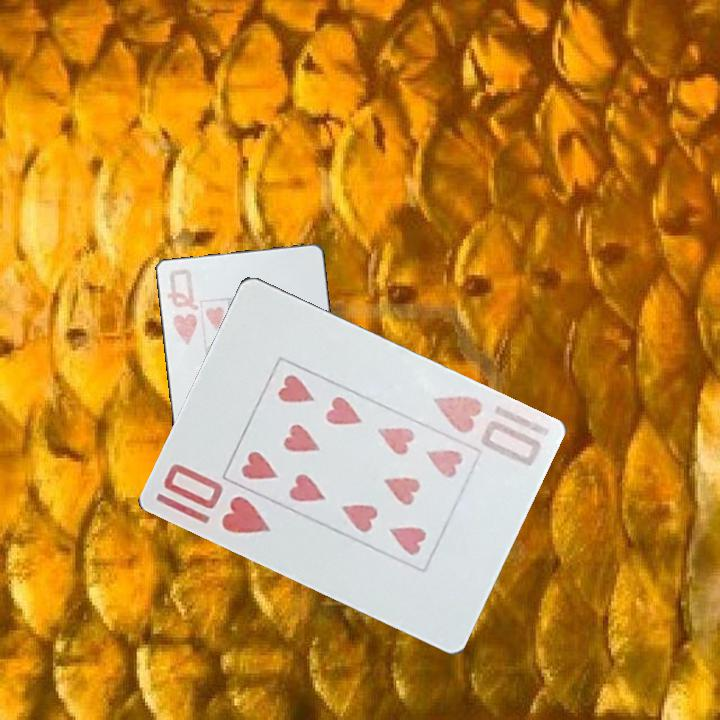Qh: (165, 266, 202, 348)
Th: (427, 392, 552, 470), (159, 460, 274, 537)
